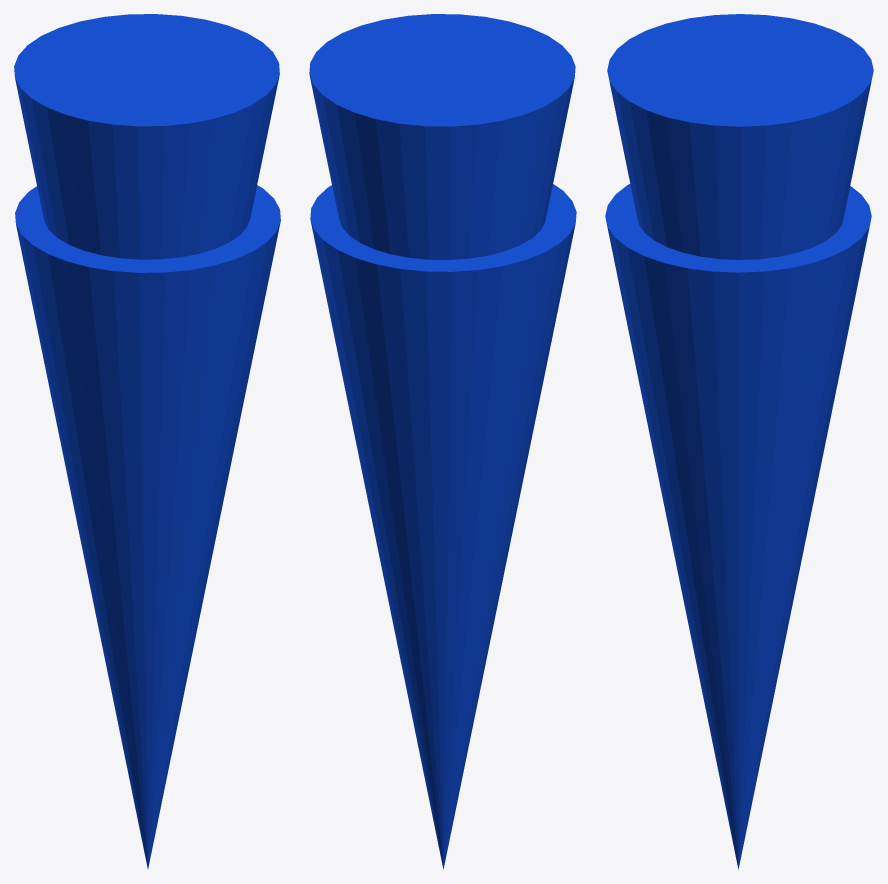
Rendered from selectorsky.fbx.
3 views of the same model, side by side, from view 1: azimuth 30°, elevation 25°; view 2: azimuth 150°, elevation 25°; view 3: azimuth 270°, elevation 25° (orthographic).
Visible parts, largest first — view 1: Cone, Cone.001; view 2: Cone, Cone.001; view 3: Cone, Cone.001.
Boxes of the visible parts, left/top/right/bottom form: Cone: left=15, top=185, right=280, bottom=868; Cone.001: left=14, top=14, right=279, bottom=259; Cone: left=310, top=184, right=576, bottom=869; Cone.001: left=309, top=14, right=575, bottom=259; Cone: left=605, top=184, right=871, bottom=869; Cone.001: left=607, top=14, right=873, bottom=259.
Bounding box in the file's own units: 0.2 × 0.6618 × 0.2015.
